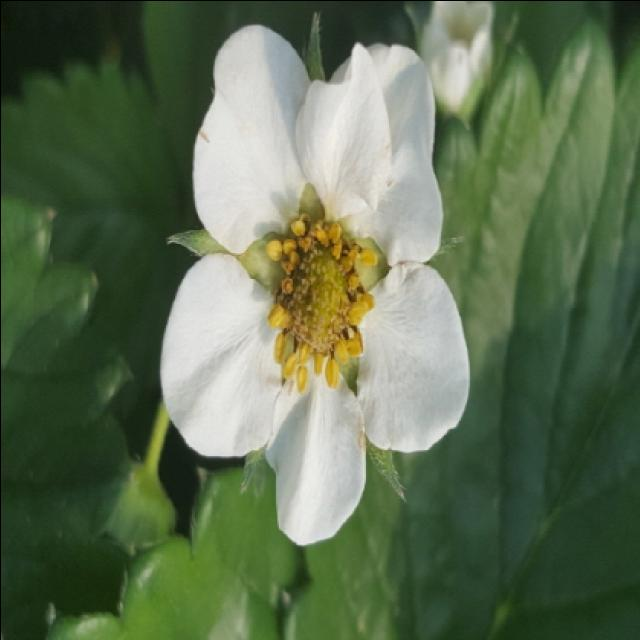Blossom Blight: (260, 210, 381, 398)
